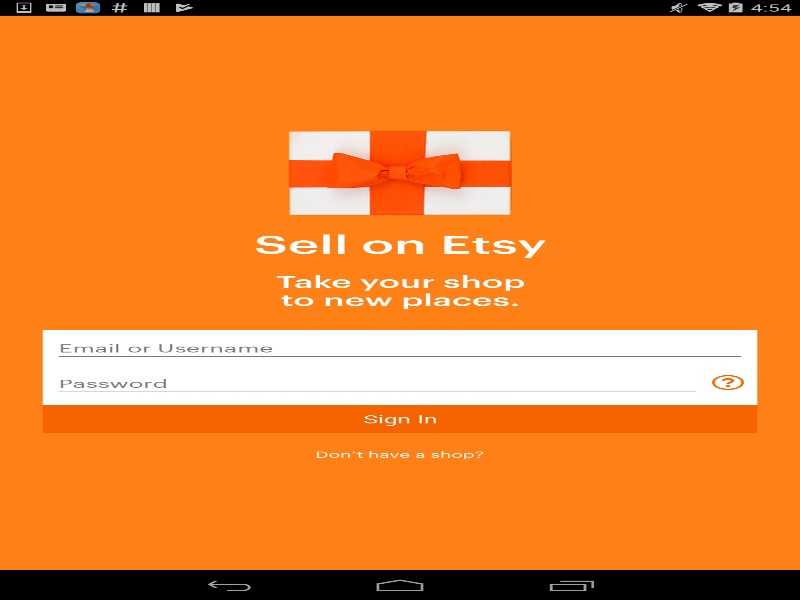Input: (53, 334, 746, 360), (53, 370, 701, 395)
